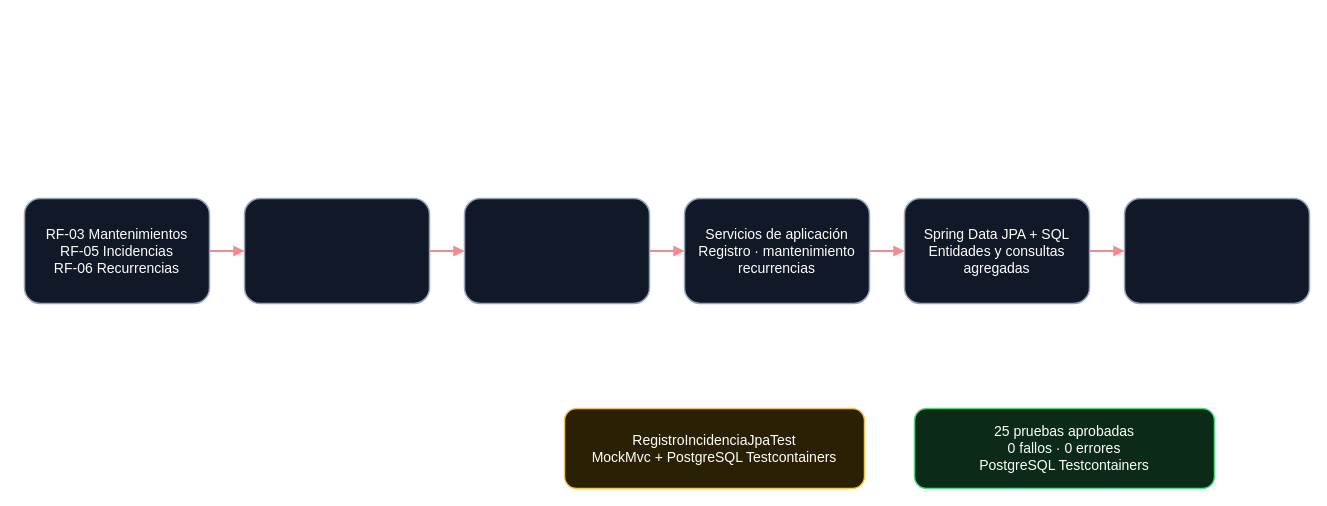
Some shapes in this 1327 by 506 pixel diagram are drawn without their labels. Each missing label, with the centre of its shape:
Controladores MVC Validación + CSRF: (556,250)
PostgreSQL Incidencia · Falla · Mantenimiento Componente: (1216,250)
Thymeleaf + Bootstrap Formularios y filtros: (336,250)
